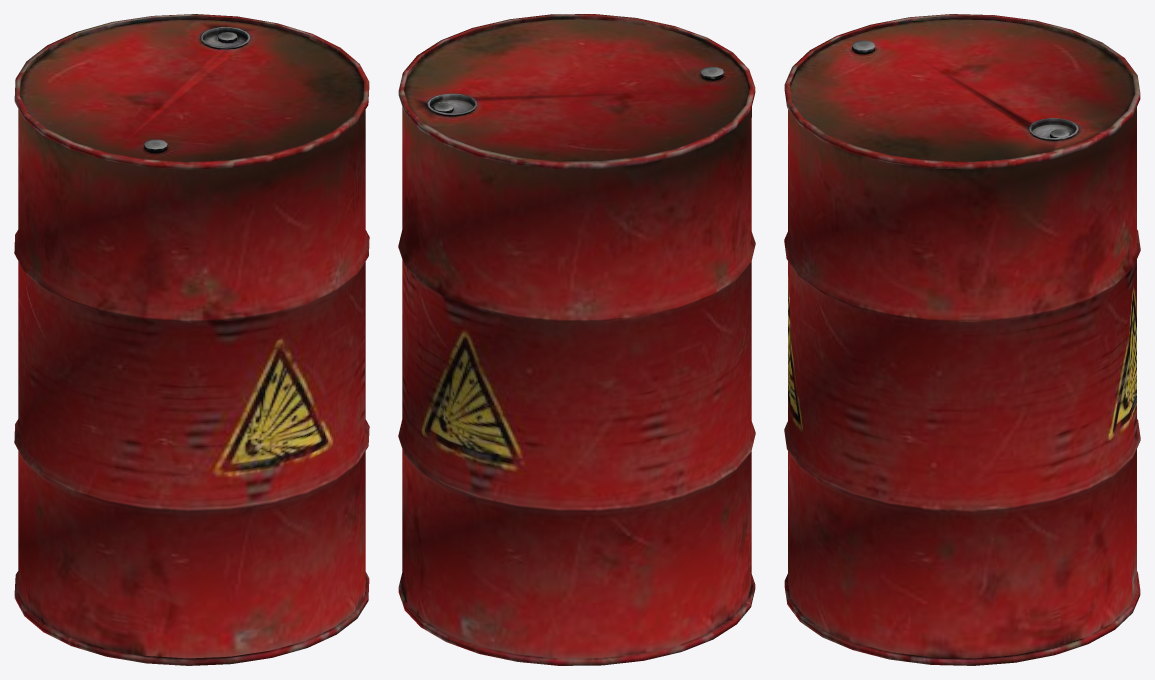
Rendered from barrel_red.glb.
3 renders of one model, left to right at view 1: azimuth 30°, elevation 25°; view 2: azimuth 150°, elevation 25°; view 3: azimuth 270°, elevation 25°, orthographic.
Parts seen in each view (by area): view 1: Barrel_01; view 2: Barrel_01; view 3: Barrel_01.
Part boxes in pixels (x1,y1,x2,y2): Barrel_01: (14, 14, 369, 665); Barrel_01: (398, 14, 755, 665); Barrel_01: (784, 14, 1140, 665).
Size of the model in its own units: 0.5635 by 0.88 by 0.5627.
Materials: 1 (1 with a texture image).
